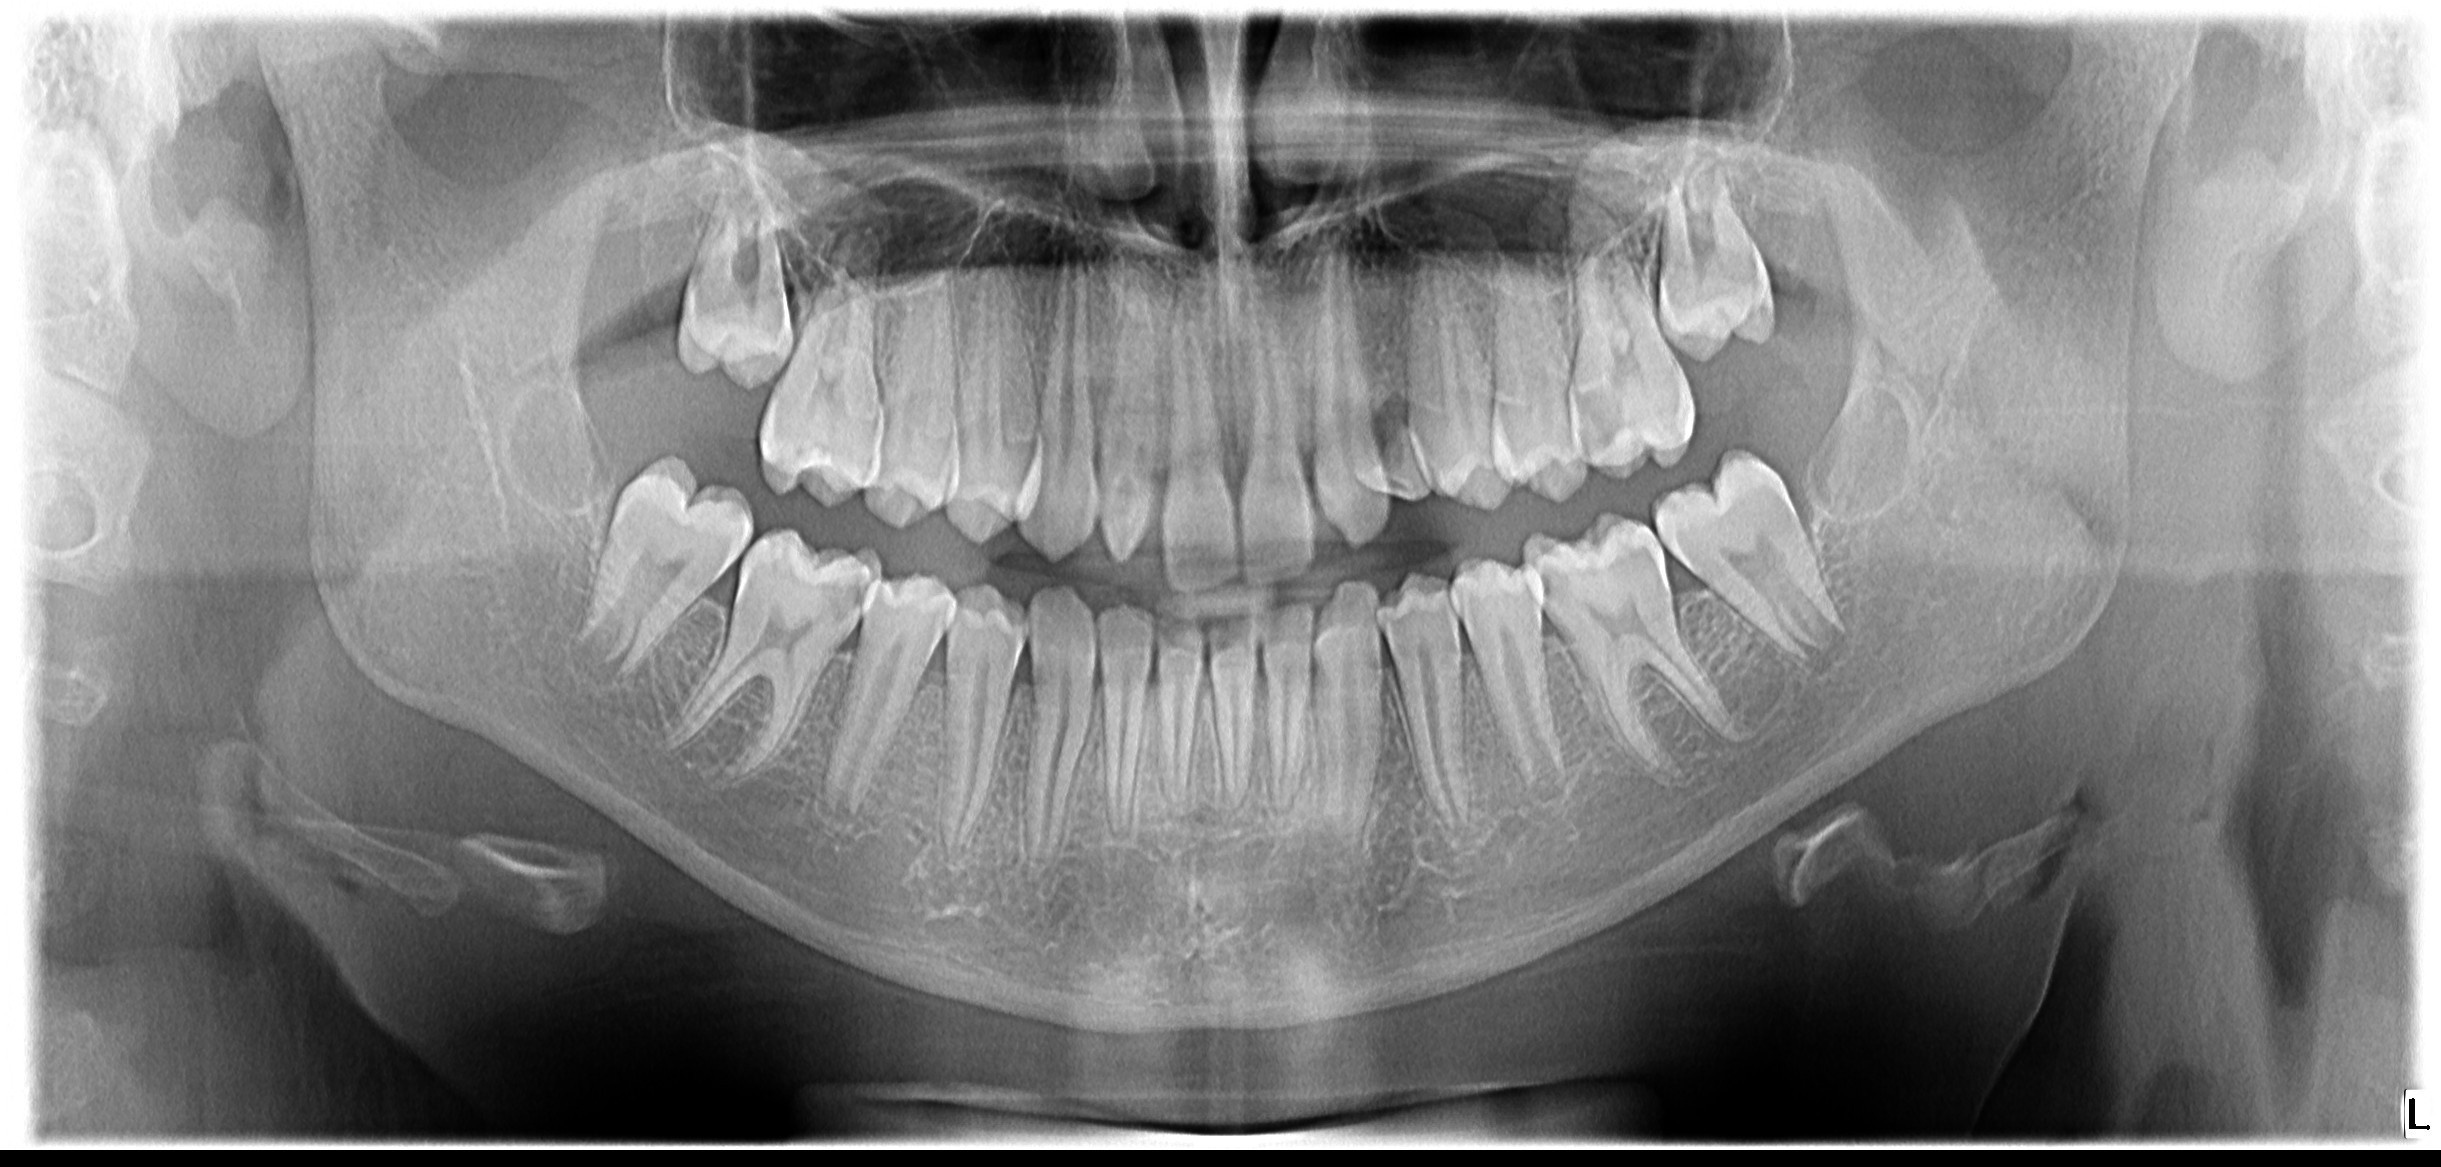CAR: (1552, 375, 1636, 479), (806, 546, 878, 635), (1512, 545, 1577, 615)
IMT: (1647, 165, 1804, 361), (668, 168, 802, 394)
